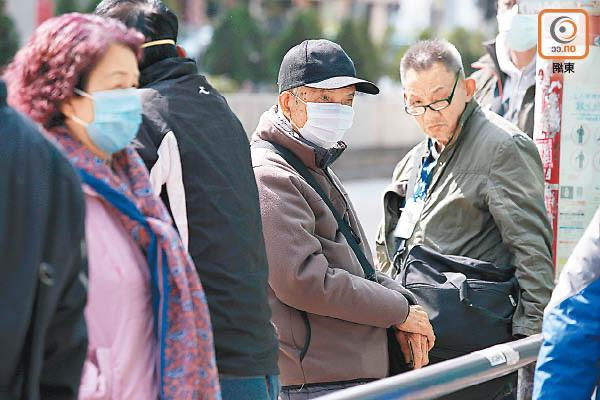with_mask: (73, 68, 142, 157), (292, 85, 357, 147), (495, 1, 541, 55)
without_mask: (405, 83, 467, 140)
